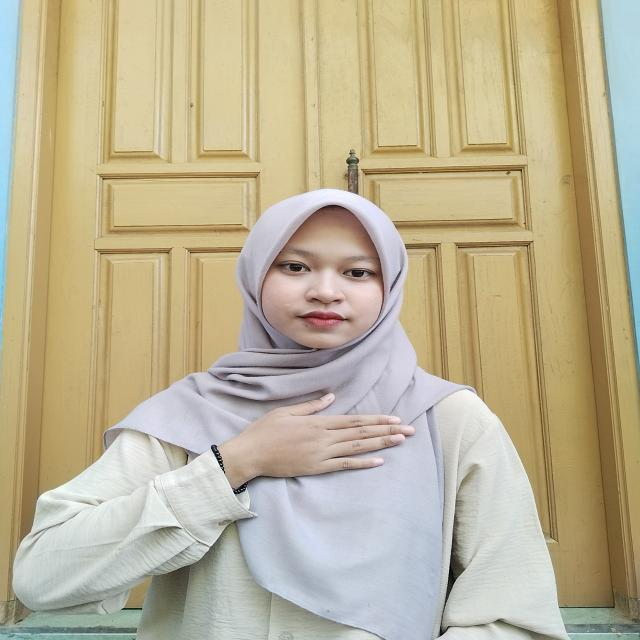tolong: (190, 393, 428, 503)
